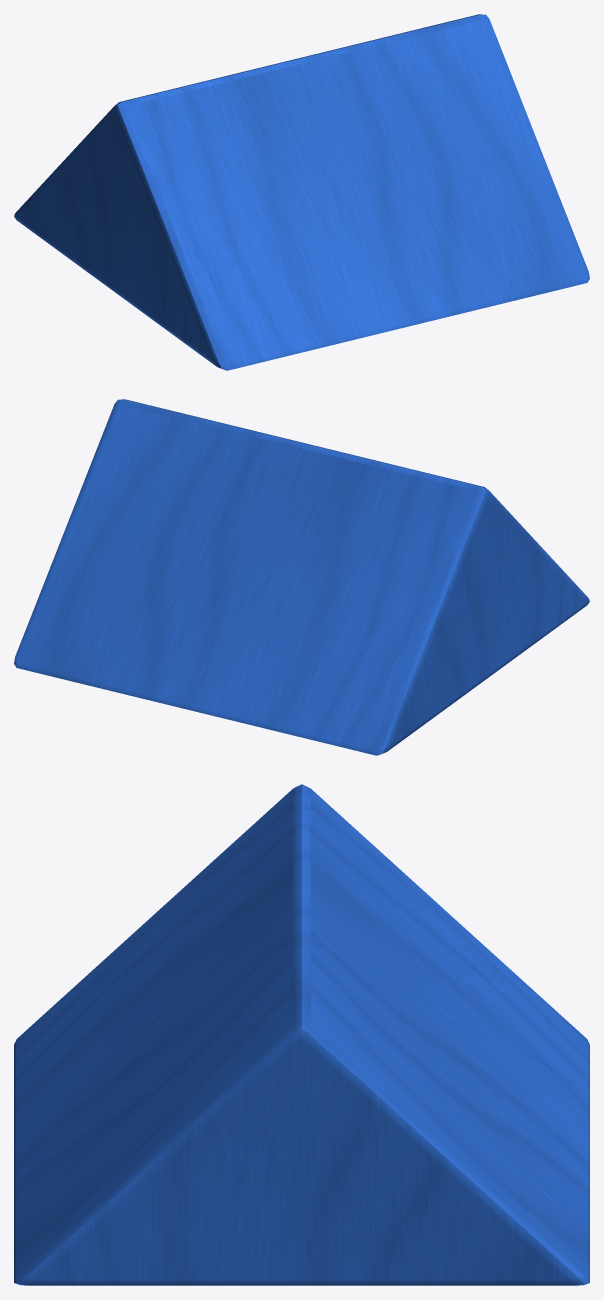
Rendered from block_roof.glb.
The picture shows the model from 3 angles, top to bottom: view 1: azimuth 30°, elevation 25°; view 2: azimuth 150°, elevation 25°; view 3: azimuth 270°, elevation 25°; orthographic projection. The views are drawn at different scales.
Parts seen in each view (by area): view 1: block_roof; view 2: block_roof; view 3: block_roof.
Part boxes in pixels (x1,y1,x2,y2): block_roof: (14, 14, 589, 370); block_roof: (14, 399, 589, 755); block_roof: (14, 784, 589, 1285).
Bounding box in the file's own units: 1.4 × 0.6876 × 1.37.
Materials: 1 (1 with a texture image).
